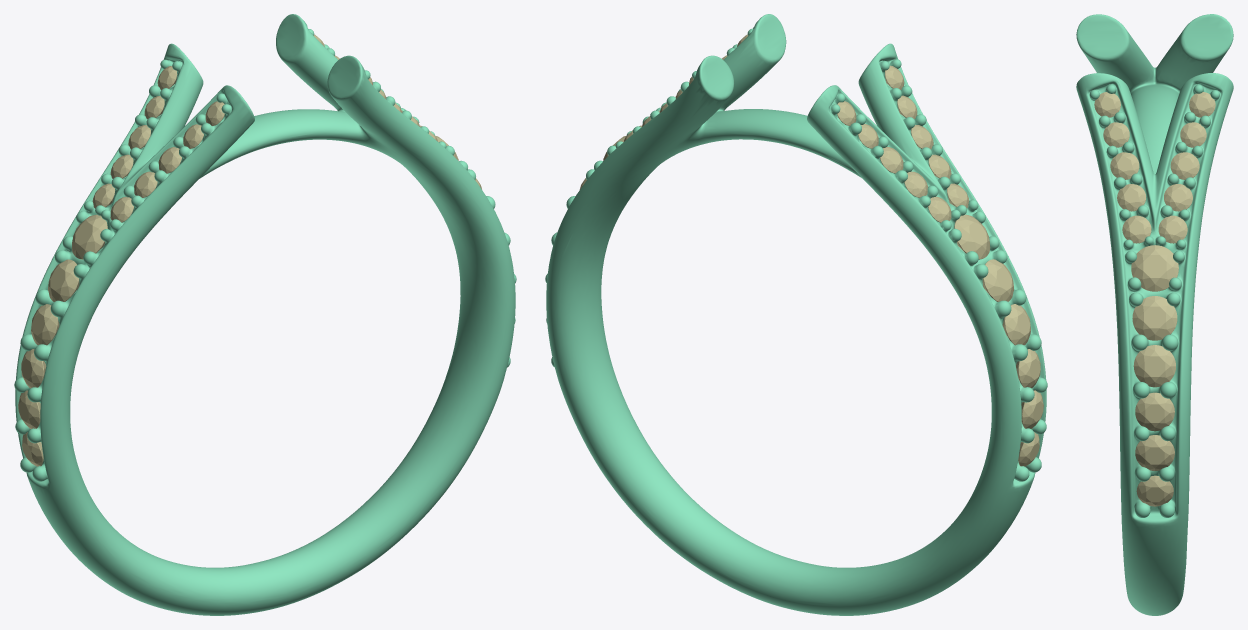
The picture shows the model from 3 angles, left to right: view 1: azimuth 30°, elevation 25°; view 2: azimuth 150°, elevation 25°; view 3: azimuth 270°, elevation 25°; orthographic projection.
Visible parts, largest first — view 1: Metal02, Diamond_Gem.031, Diamond_Gem.029, Diamond_Gem.027, Diamond_Gem.025; view 2: Metal02, Diamond_Gem.031, Diamond_Gem.029, Diamond_Gem.027, Diamond_Gem.025; view 3: Metal02, Diamond_Gem.030, Diamond_Gem.028, Diamond_Gem.026, Diamond_Gem.022, Diamond_Gem.023, Diamond_Gem.020, Diamond_Gem.003, Diamond_Gem.002, Diamond_Gem, Diamond_Gem.005, Diamond_Gem.004 (+5 smaller).
Boxes of the visible parts, box(x1,y1,x2,y2) form: Metal02: box(14, 14, 516, 615); Diamond_Gem.031: box(72, 214, 107, 259); Diamond_Gem.029: box(48, 259, 79, 301); Diamond_Gem.027: box(31, 304, 59, 345); Diamond_Gem.025: box(21, 349, 46, 388); Metal02: box(545, 14, 1047, 615); Diamond_Gem.031: box(954, 214, 990, 259); Diamond_Gem.029: box(982, 259, 1013, 301); Diamond_Gem.027: box(1002, 304, 1030, 345); Diamond_Gem.025: box(1016, 349, 1040, 388); Metal02: box(1076, 14, 1233, 615); Diamond_Gem.030: box(1131, 245, 1178, 291); Diamond_Gem.028: box(1132, 296, 1177, 340); Diamond_Gem.026: box(1133, 345, 1175, 387); Diamond_Gem.022: box(1135, 392, 1174, 431); Diamond_Gem.023: box(1135, 435, 1174, 470); Diamond_Gem.020: box(1136, 475, 1173, 506); Diamond_Gem.003: box(1122, 215, 1151, 243); Diamond_Gem.002: box(1158, 215, 1187, 243); Diamond_Gem: box(1170, 152, 1199, 179); Diamond_Gem.005: box(1110, 152, 1139, 179); Diamond_Gem.004: box(1117, 184, 1146, 211).
Bounding box in the file's own units: 20.93 × 22.81 × 5.94.
